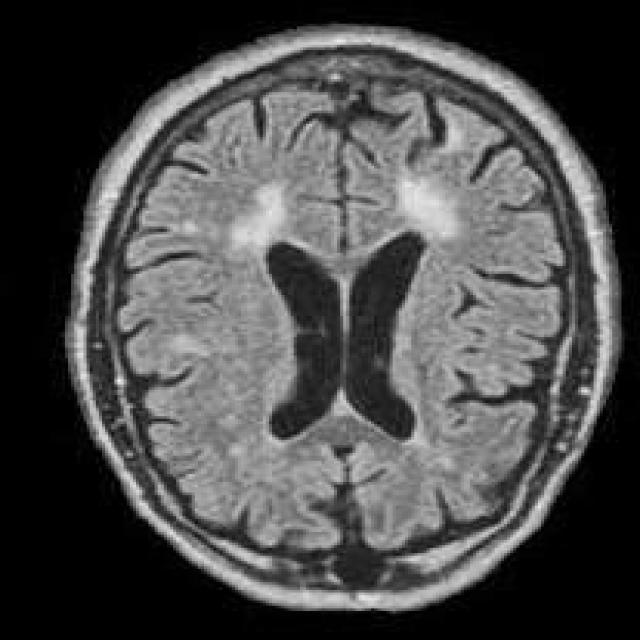no-tumor: (168, 153, 516, 496)
